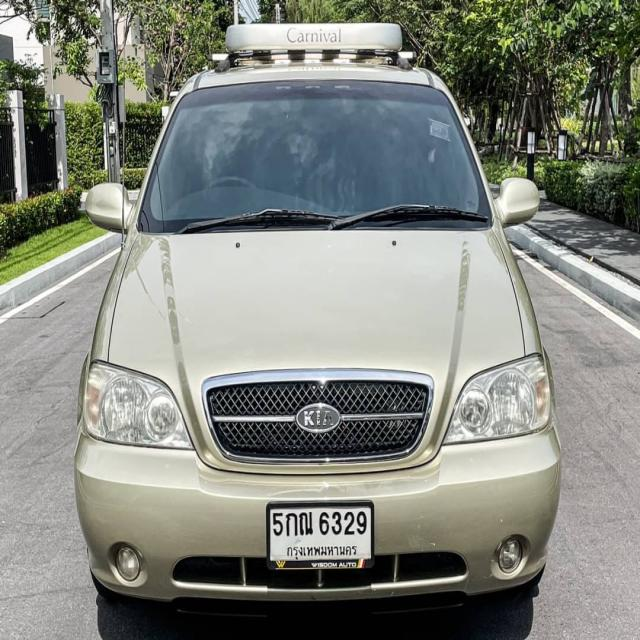license_plate: (266, 500, 376, 573)
